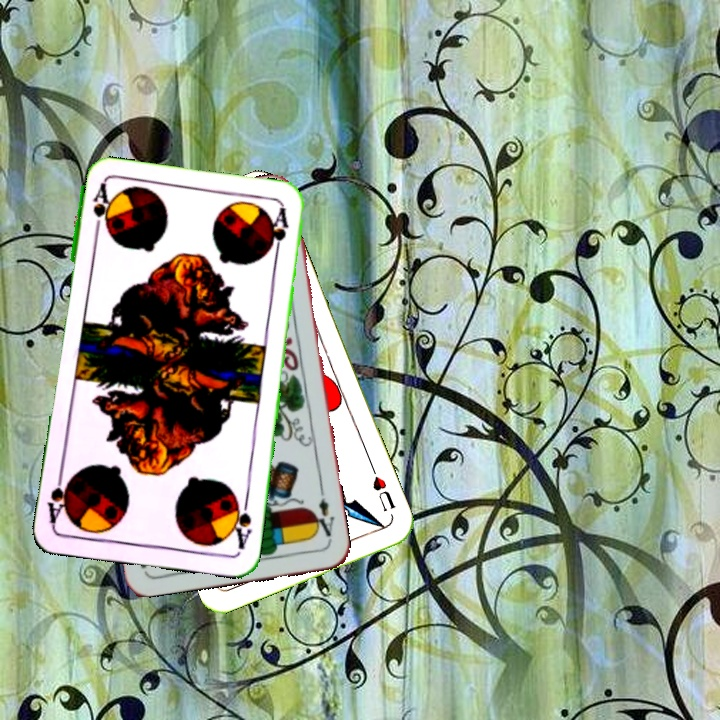EA: (309, 485, 338, 544)
HU: (367, 462, 399, 515)
SA: (227, 492, 254, 552), (88, 181, 111, 240)
